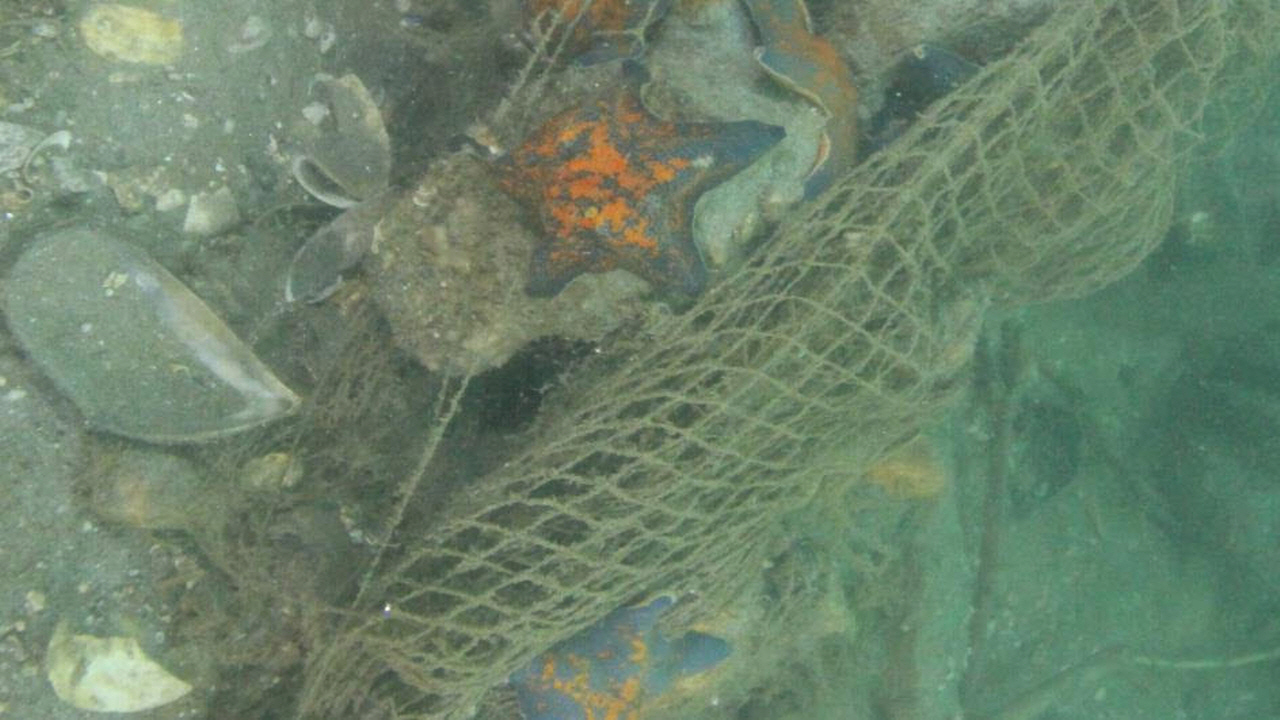fish net: (362, 0, 1280, 697)
